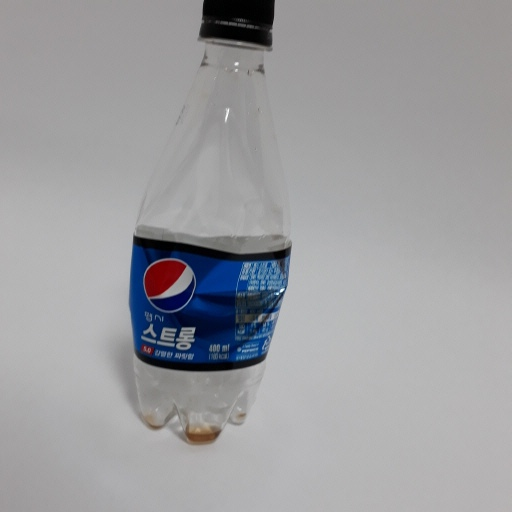Plastic_0: (125, 1, 294, 450)
